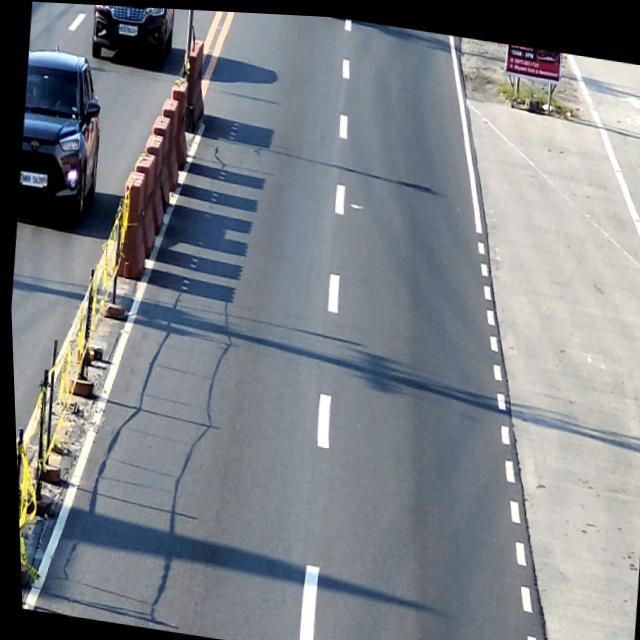Car: (10, 45, 110, 229), (88, 4, 178, 69)
License-Plate: (19, 170, 43, 187), (117, 22, 138, 36)
